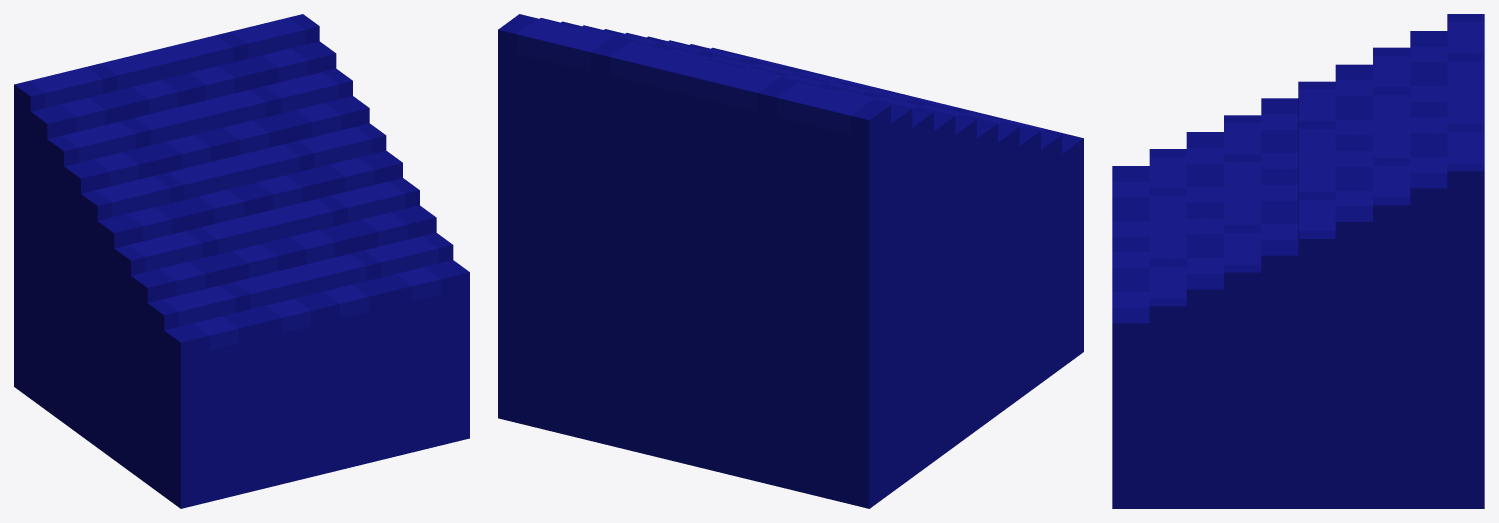
Rendered from half_ramp_full_middle.glb.
3 renders of one model, left to right at view 1: azimuth 30°, elevation 25°; view 2: azimuth 150°, elevation 25°; view 3: azimuth 270°, elevation 25°, orthographic. The views are drawn at different scales.
Parts seen in each view (by area): view 1: half_ramp_full_middle; view 2: half_ramp_full_middle; view 3: half_ramp_full_middle.
Boxes of the visible parts, box(x1,y1,x2,y2) form: half_ramp_full_middle: box(14, 14, 469, 508); half_ramp_full_middle: box(498, 14, 1083, 508); half_ramp_full_middle: box(1112, 14, 1484, 508).
Size of the model in its own units: 2 by 2 by 2.
Materials: 1 (1 with a texture image).
